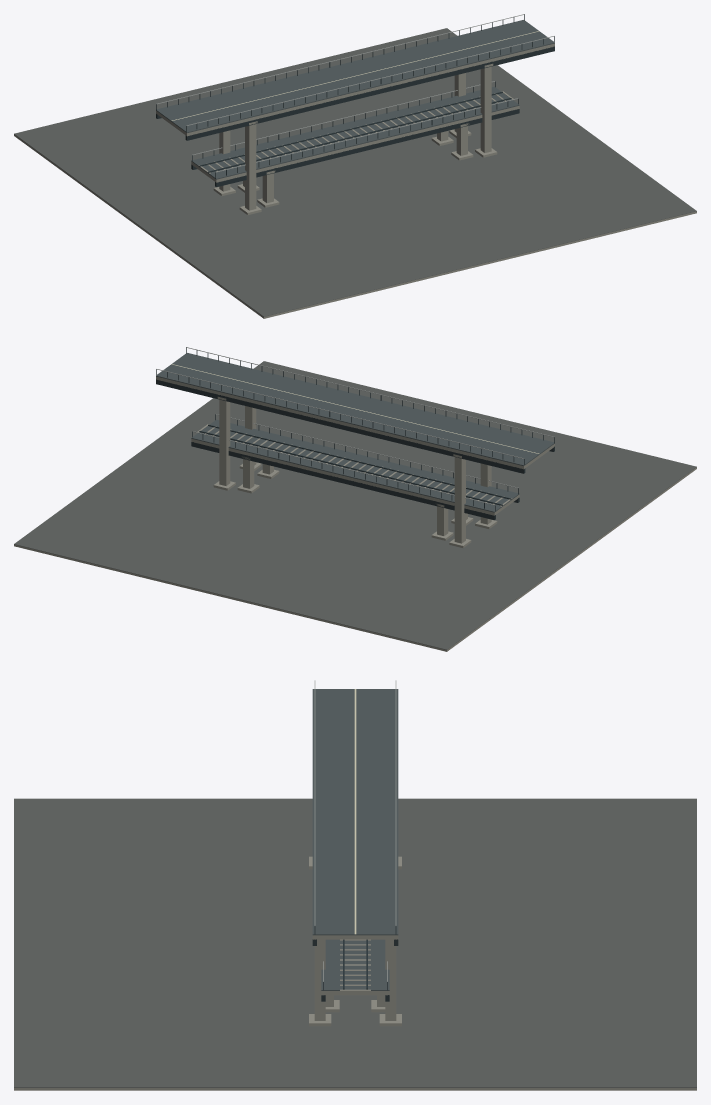
3 views of the same model, one above another, from view 1: azimuth 30°, elevation 25°; view 2: azimuth 150°, elevation 25°; view 3: azimuth 270°, elevation 25° (orthographic). The views are drawn at different scales.
Visible parts, largest first — view 1: 石铺面与混凝土承板, 分层路床、承梁、支座和实墩 (×2); view 2: 石铺面与混凝土承板, 分层路床、承梁、支座和实墩 (×2); view 3: 石铺面与混凝土承板, 分层路床、承梁、支座和实墩 (×2).
Boxes of the visible parts, box(x1,y1,x2,y2) form: 石铺面与混凝土承板: box(14, 28, 696, 318); 分层路床、承梁、支座和实墩 (×2): box(156, 14, 554, 214); 石铺面与混凝土承板: box(14, 361, 696, 651); 分层路床、承梁、支座和实墩 (×2): box(156, 347, 554, 547); 石铺面与混凝土承板: box(14, 798, 696, 1090); 分层路床、承梁、支座和实墩 (×2): box(309, 680, 401, 1026).
Bounding box in the file's own units: 80 × 18.49 × 80.
Materials: 9 (9 with a texture image).
